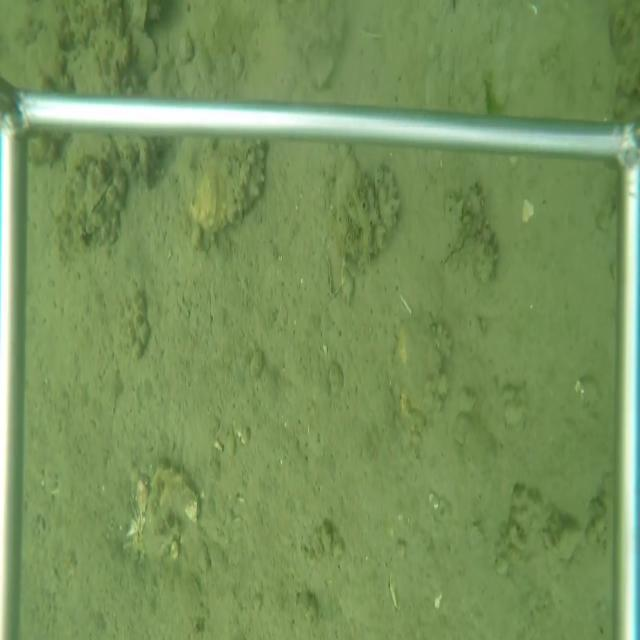Oyster-Closed: (438, 218, 487, 277), (84, 180, 116, 223)
Oyster-Indeterminate: (188, 140, 268, 238)
